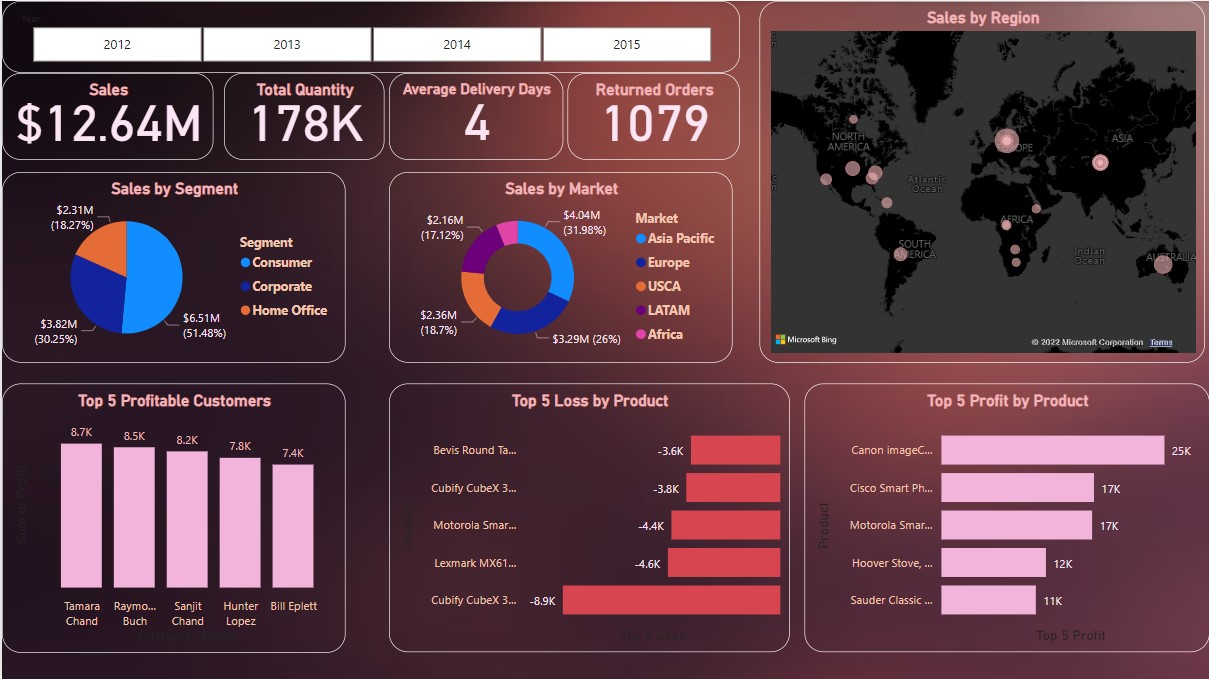

The dashboard page shown, as its layout file describes it:
{"tool":"powerbi","page":{"name":"Page 1","canvas":[1280,720],"ordinal":0},"visuals":[{"type":"card","title":"Sales","fields":{"Values":["Orders.Sales"]},"box":[0,76.3,224.1,92.2],"z":0},{"type":"card","title":"Total Quantity","fields":{"Values":["Orders.Quantity"]},"box":[235.2,76.3,170.1,92.2],"z":1000},{"type":"card","title":"Average Delivery Days","fields":{"Values":["Orders.Delivery Days"]},"box":[410.1,76.3,184.4,92.2],"z":2000},{"type":"slicer","fields":{"Values":["Orders.Year"]},"box":[0,0,782,76.3],"z":3000},{"type":"card","title":"Returned Orders","fields":{"Values":["Returns.Return Numbers"]},"box":[599.2,76.3,182.8,92.2],"z":4000},{"type":"map","fields":{"Category":["Orders.Region"],"Size":["Orders.Sales"]},"box":[802.6,0,472.1,383],"z":5000},{"type":"clusteredBarChart","fields":{"Y":["Orders.Profit"],"Category":["Orders.Product Name"]},"box":[850.3,405.3,429.1,284.5],"z":6000},{"type":"clusteredBarChart","fields":{"Y":["Orders.Profit"],"Category":["Orders.Product Name"]},"box":[410.1,405.3,424.4,284.5],"z":7000},{"type":"pieChart","fields":{"Y":["Orders.Sales"],"Category":["Orders.Segment"]},"box":[0,181.2,364,201.9],"z":8000},{"type":"donutChart","fields":{"Y":["Orders.Sales"],"Category":["Orders.Market"]},"box":[410.1,181.2,364,201.9],"z":9000},{"type":"columnChart","title":"Top 5 Profitable Customers","fields":{"Category":["Orders.Customer Name"],"Y":["Orders.Profit"]},"box":[0,405,364,285],"z":10000}]}

Visuals, with their boxes in screenshot pixels (x1, y1, x2, y2), scaled from the page's 1280x720 canvas onto the 1209x679 screenshot:
"Sales" card: 0,72,212,159
"Total Quantity" card: 222,72,383,159
"Average Delivery Days" card: 387,72,562,159
slicer - Orders.Year: 0,0,739,72
"Returned Orders" card: 566,72,739,159
map - Orders.Region x Orders.Sales: 758,0,1204,361
clusteredBarChart - Orders.Profit x Orders.Product Name: 803,382,1208,651
clusteredBarChart - Orders.Profit x Orders.Product Name: 387,382,788,651
pieChart - Orders.Sales x Orders.Segment: 0,171,344,361
donutChart - Orders.Sales x Orders.Market: 387,171,731,361
"Top 5 Profitable Customers" columnChart: 0,382,344,651
